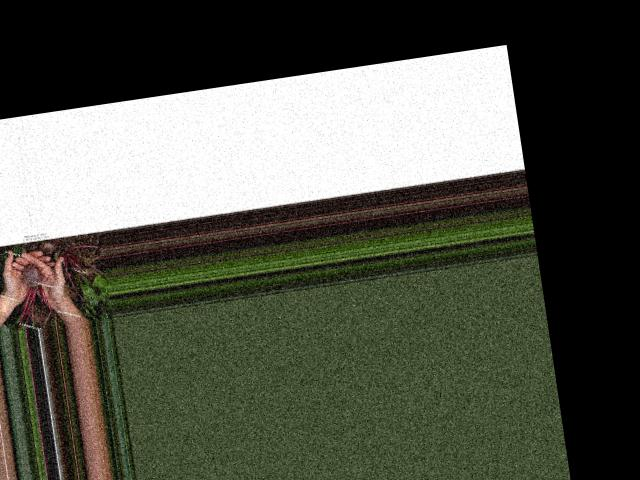beet: (6, 260, 55, 330)
